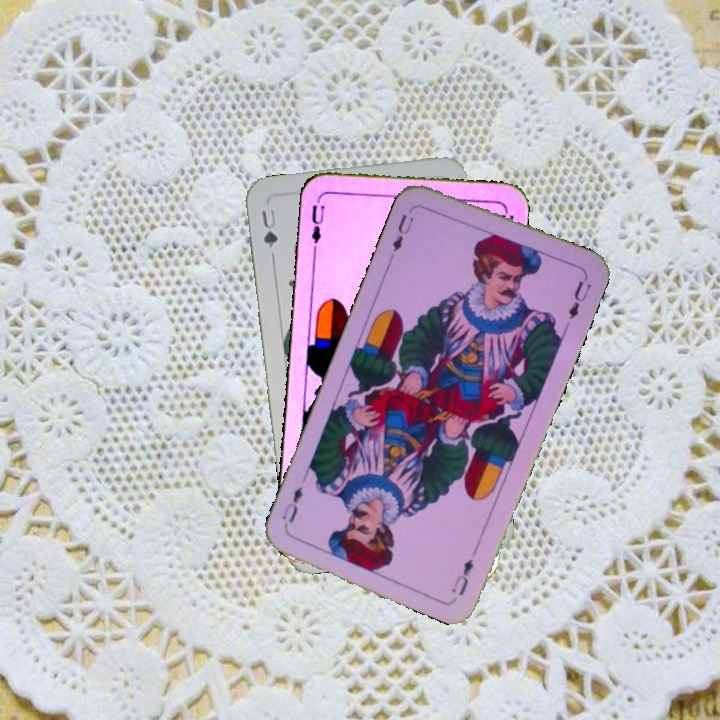EU: (388, 210, 417, 261), (447, 555, 477, 599), (307, 193, 327, 252)
GU: (257, 202, 281, 251)
